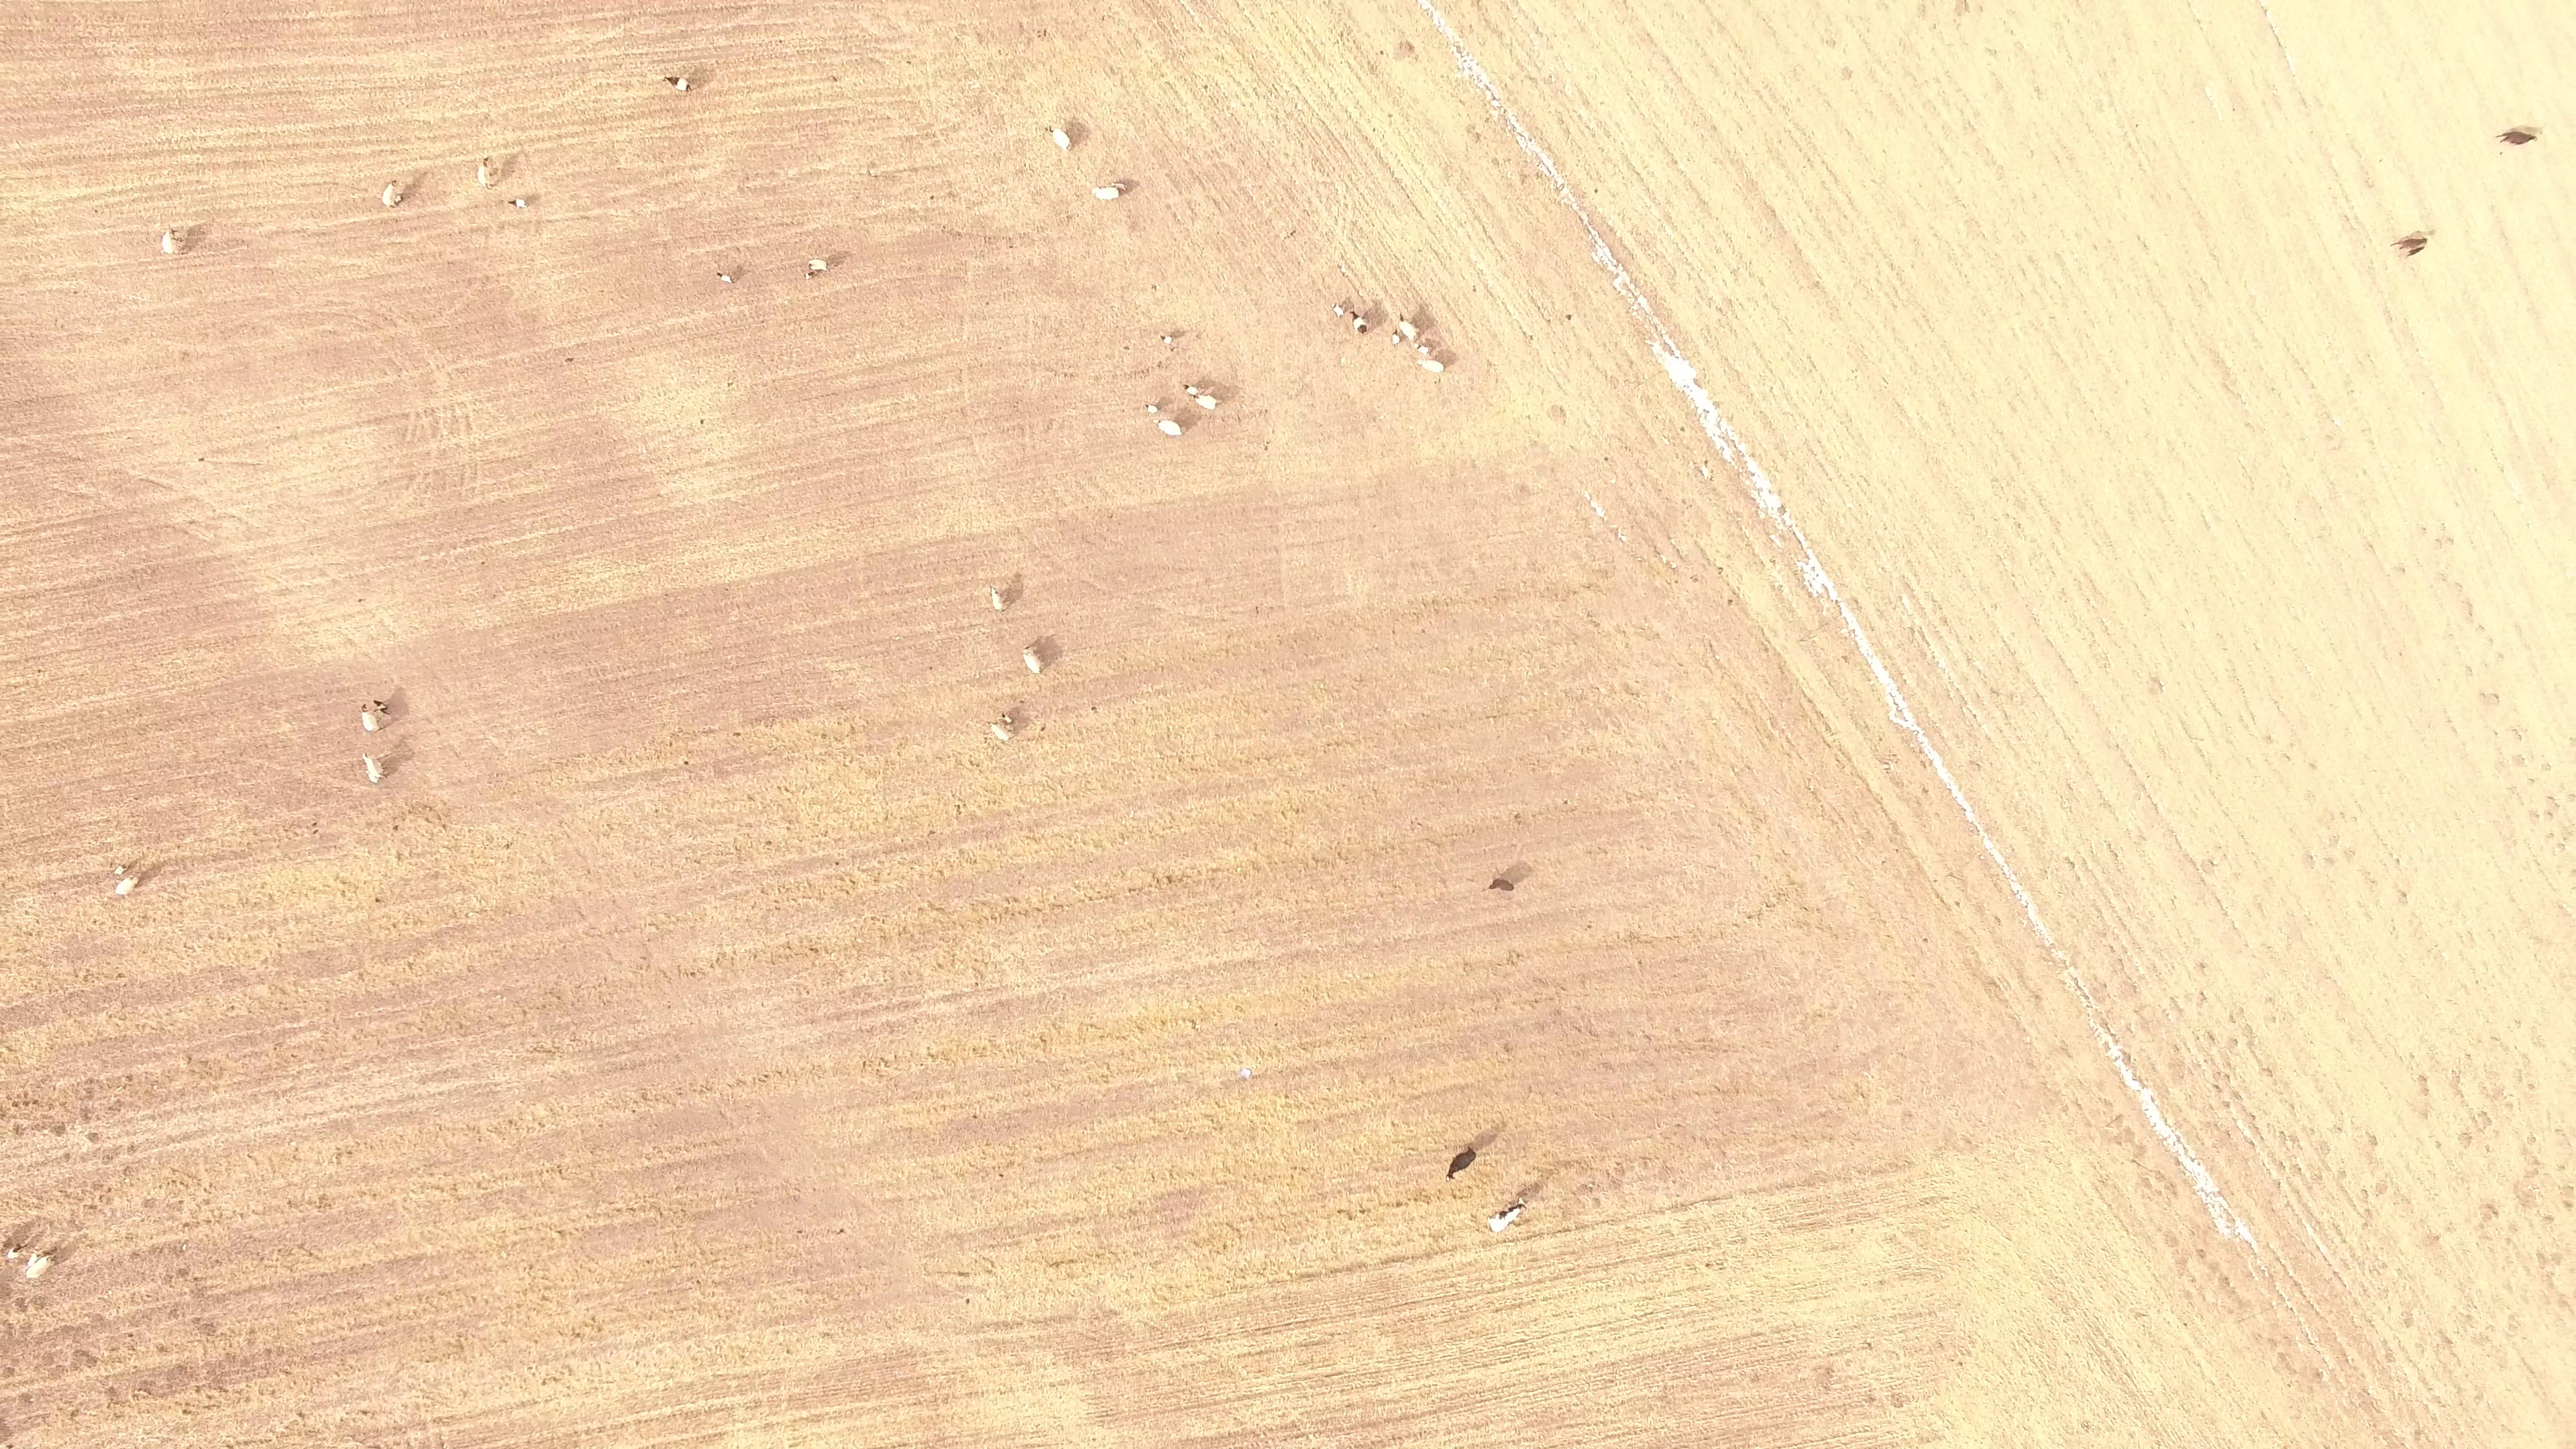sheep: (1486, 1198, 1530, 1236), (1444, 1148, 1480, 1182), (25, 1252, 58, 1282), (360, 749, 384, 786), (1397, 314, 1423, 343), (1021, 643, 1045, 676), (1046, 123, 1073, 150), (1150, 416, 1183, 437), (356, 704, 380, 733), (985, 583, 1007, 614), (1414, 356, 1446, 376), (1090, 184, 1123, 204), (158, 227, 180, 256), (661, 74, 692, 95), (1349, 308, 1371, 337), (380, 178, 398, 210), (475, 156, 492, 188), (113, 873, 140, 896), (1487, 875, 1515, 894), (1191, 392, 1218, 411), (989, 722, 1010, 743), (806, 255, 830, 273), (6, 1243, 24, 1262), (113, 859, 131, 877), (373, 698, 391, 716), (1387, 329, 1404, 347), (1413, 341, 1432, 358), (1158, 333, 1179, 346), (1181, 381, 1198, 397), (507, 197, 528, 211), (1330, 303, 1346, 319), (802, 268, 818, 282), (1145, 402, 1161, 415), (716, 272, 733, 284), (1001, 711, 1014, 724)
unknown: (2396, 228, 2430, 258), (2500, 123, 2540, 148), (180, 225, 208, 254), (396, 175, 423, 205), (380, 754, 403, 778), (1003, 585, 1026, 606), (729, 262, 745, 282), (53, 1122, 68, 1139), (140, 1377, 154, 1397), (1195, 378, 1213, 392), (175, 1266, 191, 1280), (1514, 1186, 1529, 1201), (827, 253, 843, 268), (1530, 1180, 1542, 1196), (149, 862, 164, 873), (80, 1106, 93, 1123), (1164, 873, 1176, 886), (500, 157, 514, 169), (1403, 38, 1416, 54), (13, 1227, 24, 1238), (86, 1202, 100, 1213), (2148, 1106, 2159, 1118), (1218, 393, 1231, 405), (498, 166, 510, 179), (690, 66, 702, 78), (1, 1423, 10, 1437), (955, 1269, 970, 1279), (1, 1104, 8, 1120), (296, 1410, 308, 1421), (105, 1384, 117, 1397), (193, 1383, 204, 1395), (4, 1364, 14, 1376), (87, 1354, 100, 1366), (79, 1348, 91, 1359), (156, 1344, 168, 1355), (2, 1289, 13, 1299), (1052, 1258, 1063, 1270), (1065, 1256, 1077, 1267), (180, 1220, 193, 1230), (2563, 1199, 2575, 1211), (80, 1143, 90, 1155), (19, 1098, 32, 1109), (30, 1096, 42, 1108), (125, 1072, 136, 1085), (2124, 1053, 2134, 1065), (811, 945, 821, 957), (1593, 504, 1605, 517), (437, 1439, 447, 1449), (241, 1438, 252, 1448), (180, 1407, 191, 1417), (182, 1399, 193, 1409), (216, 1383, 226, 1393), (2443, 1336, 2454, 1347), (125, 1330, 136, 1340), (572, 1330, 583, 1341), (193, 1315, 203, 1325), (191, 1275, 201, 1285), (2221, 1274, 2231, 1284), (1330, 1265, 1340, 1276), (58, 1248, 68, 1259), (2430, 1233, 2440, 1244), (1521, 1216, 1532, 1226), (1345, 1212, 1356, 1223), (1358, 1207, 1368, 1217), (1393, 1199, 1403, 1210), (2173, 1158, 2183, 1168), (1564, 1158, 1574, 1168), (2369, 1134, 2379, 1145), (12, 1125, 22, 1136), (11, 1099, 21, 1110), (1242, 1067, 1253, 1078), (2032, 991, 2042, 1002), (688, 969, 699, 979), (2196, 960, 2207, 971), (372, 895, 382, 906), (391, 822, 401, 833), (682, 758, 692, 768), (1725, 596, 1735, 607), (601, 570, 612, 580), (697, 417, 707, 427), (1564, 311, 1574, 323), (1371, 300, 1381, 310), (2426, 228, 2436, 239), (392, 199, 402, 209), (68, 1407, 78, 1419), (1344, 1265, 1354, 1275), (360, 1408, 370, 1418), (264, 1346, 275, 1356), (1517, 1336, 1527, 1346), (963, 1296, 973, 1306), (1422, 1250, 1433, 1260), (837, 1226, 847, 1236), (22, 1221, 32, 1231), (2483, 1201, 2493, 1211), (105, 1185, 115, 1195), (105, 1104, 116, 1114), (2420, 1075, 2430, 1085), (761, 1071, 771, 1081), (115, 971, 125, 981), (926, 828, 936, 838), (1014, 571, 1024, 581), (565, 355, 575, 365), (490, 168, 500, 178), (372, 1442, 384, 1449), (635, 1417, 645, 1427), (1896, 1401, 1906, 1411), (21, 1392, 31, 1402), (21, 1089, 31, 1099), (226, 1442, 237, 1449), (1, 1413, 6, 1426)
